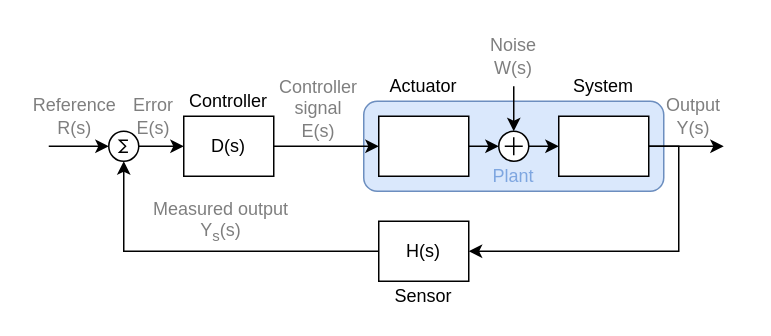
This 771x336 diagram has some shape labels left out. The shapes that lost their labels are listed below. From the top down, each one's centre as x and y in pixels, then its label:
At pixel 423 145: "G a (s)".
At pixel 603 145: "G s (s)".
